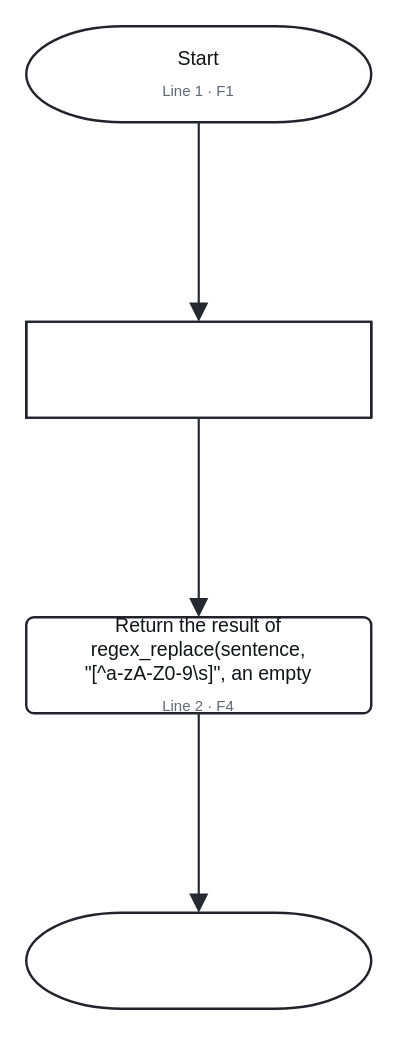
The diagram is 399 pixels wide and 1037 high, and some of its shapes have lost their labels. Here are the shapes that lost their labels. From the top down, the centre of each, then its label:
At pixel 198 369: "Run function REMOVE_PUNCTUATION with sentence Line 1 · F3".
At pixel 198 960: "End Line 1 · F2".
